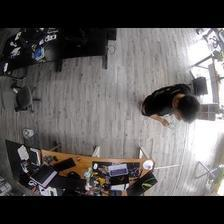normal: (140, 82, 198, 128)
